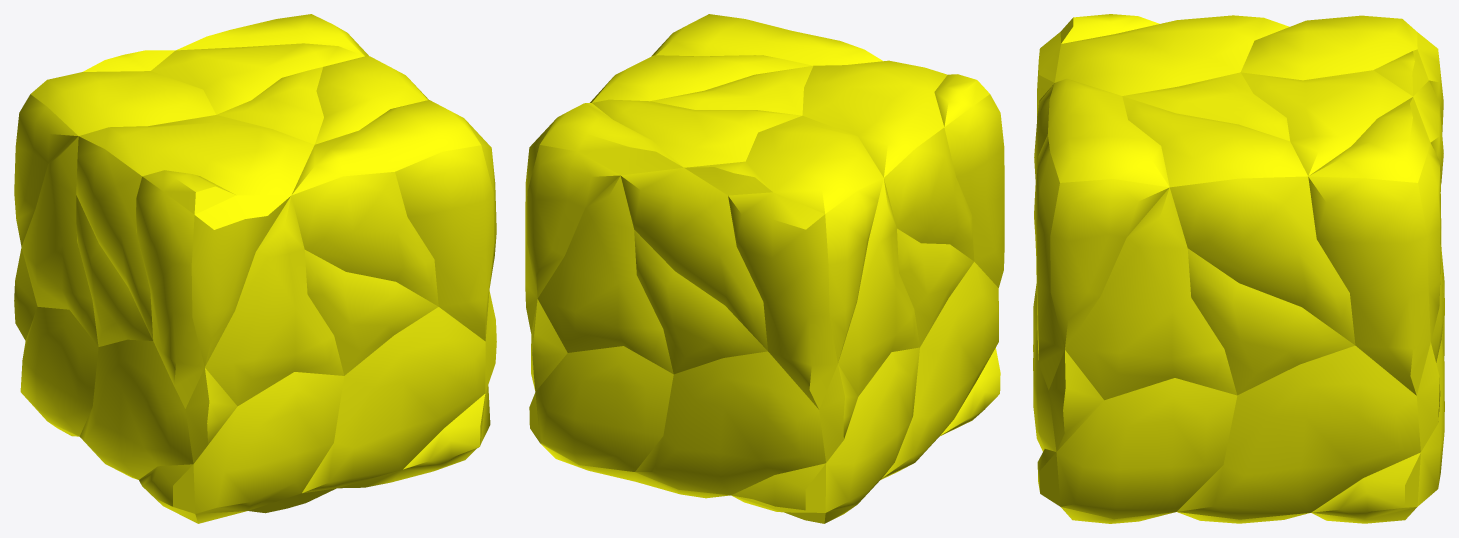
File: kaykit-stone-dark.glb
3 renders of one model, left to right at view 1: azimuth 30°, elevation 25°; view 2: azimuth 150°, elevation 25°; view 3: azimuth 270°, elevation 25°, orthographic. The views are drawn at different scales.
Parts seen in each view (by area): view 1: stone_dark; view 2: stone_dark; view 3: stone_dark.
Part boxes in pixels (left/top/right/bottom): stone_dark: left=14, top=14, right=496, bottom=523; stone_dark: left=525, top=14, right=1004, bottom=523; stone_dark: left=1033, top=14, right=1444, bottom=523.
Size of the model in its own units: 2.05 by 2.05 by 2.05.
